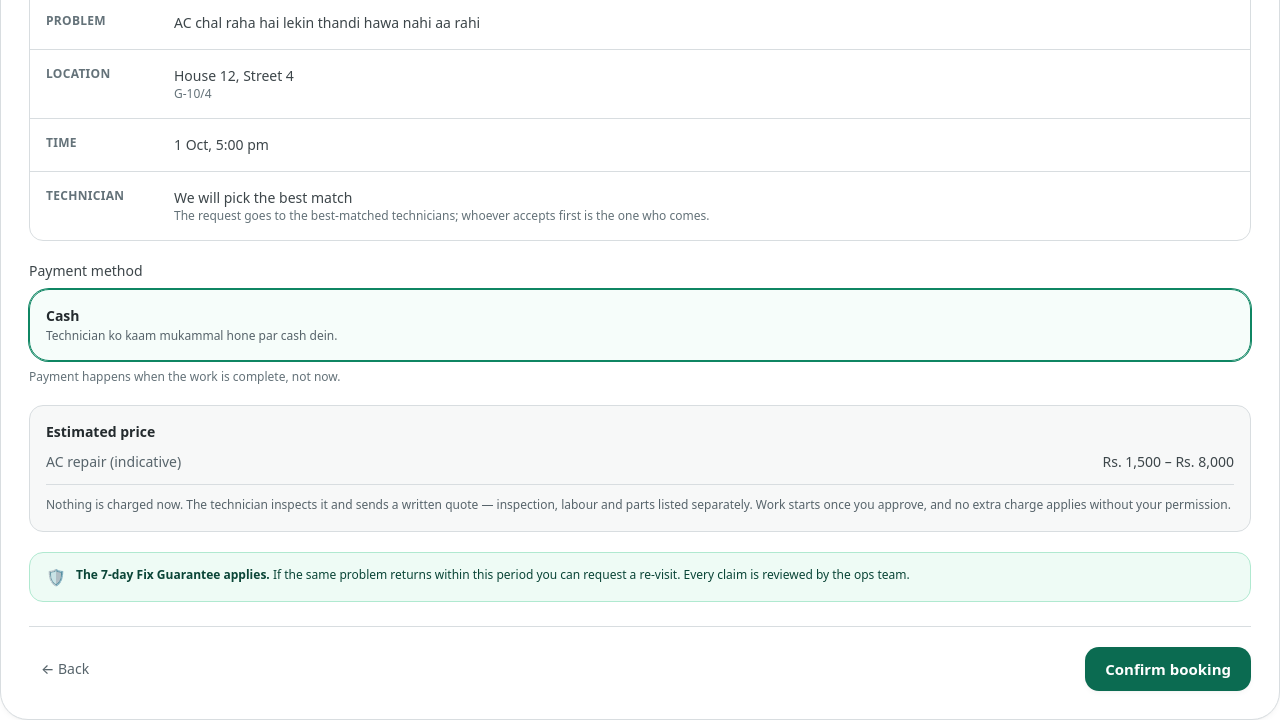
confirm step › asks an unauthenticated customer to log in rather than losing the draft
(page scrolled)
Click the button "Confirm booking" at (1168, 669), box [1085, 647, 1251, 691]
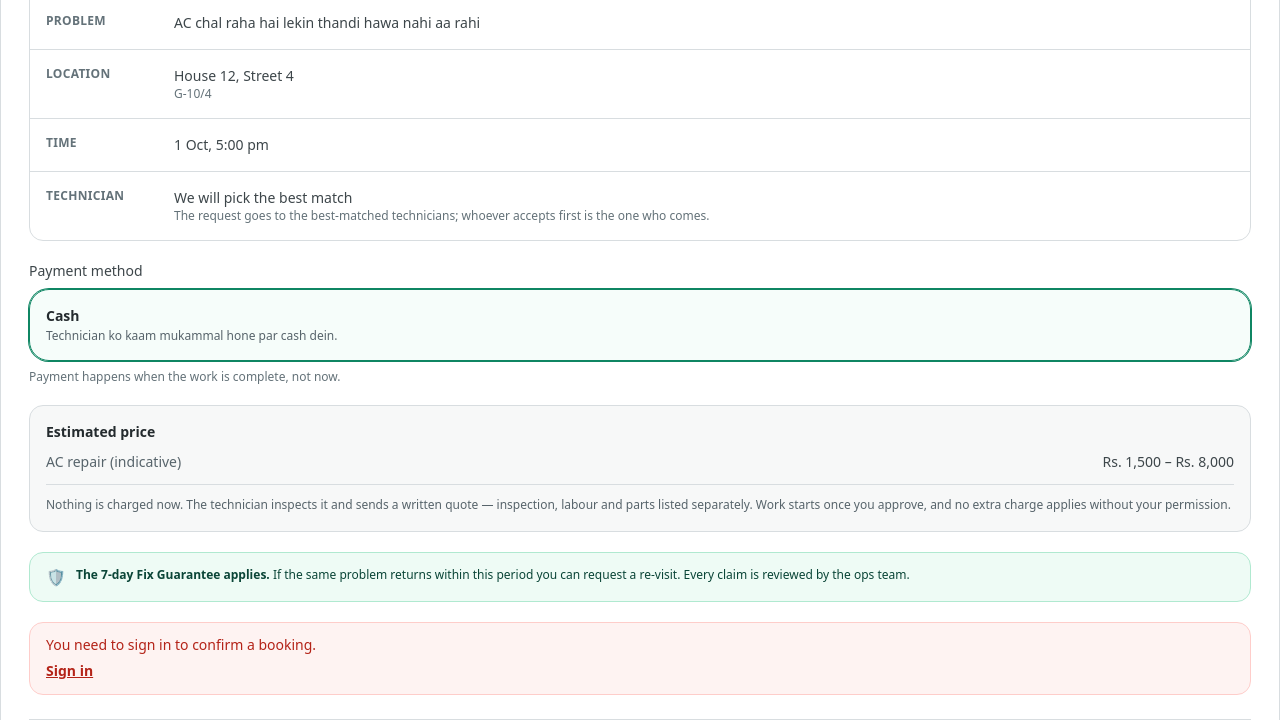
Result: the message shows "sign in to confirm a booking" at [46, 635, 316, 654]
